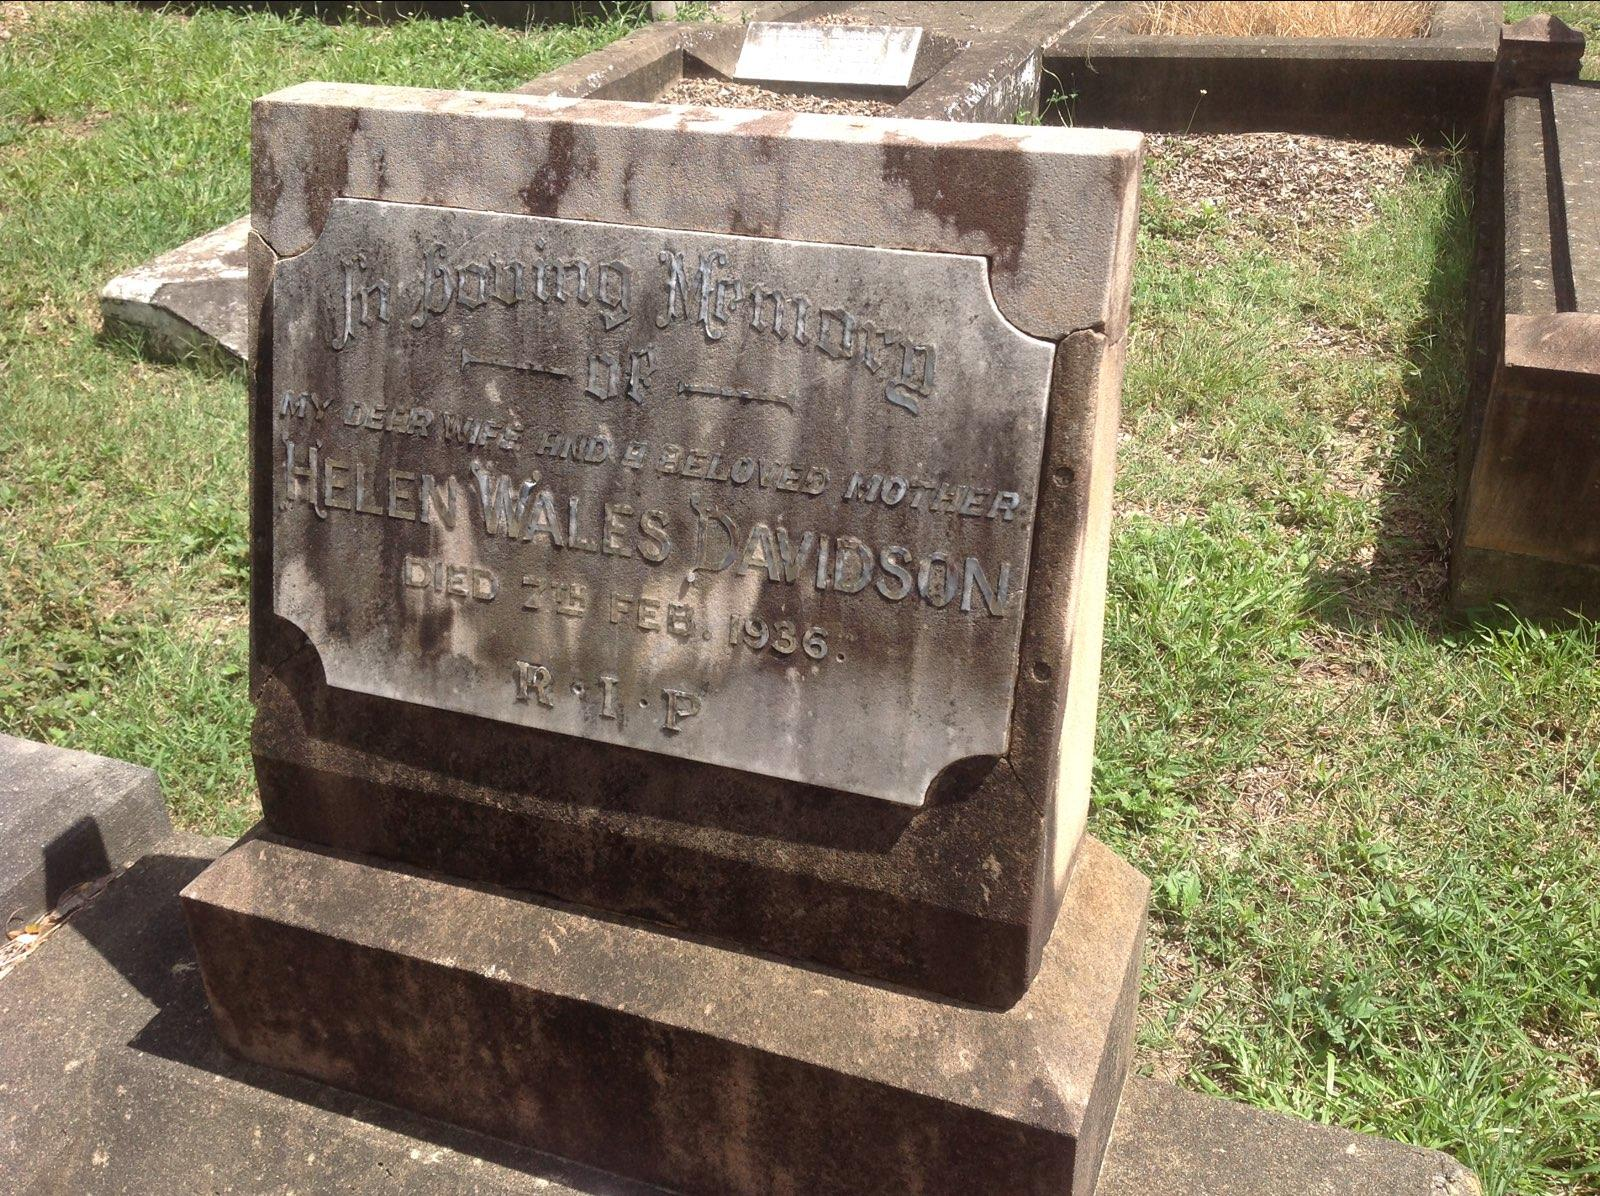slant: (161, 57, 1183, 1153)
